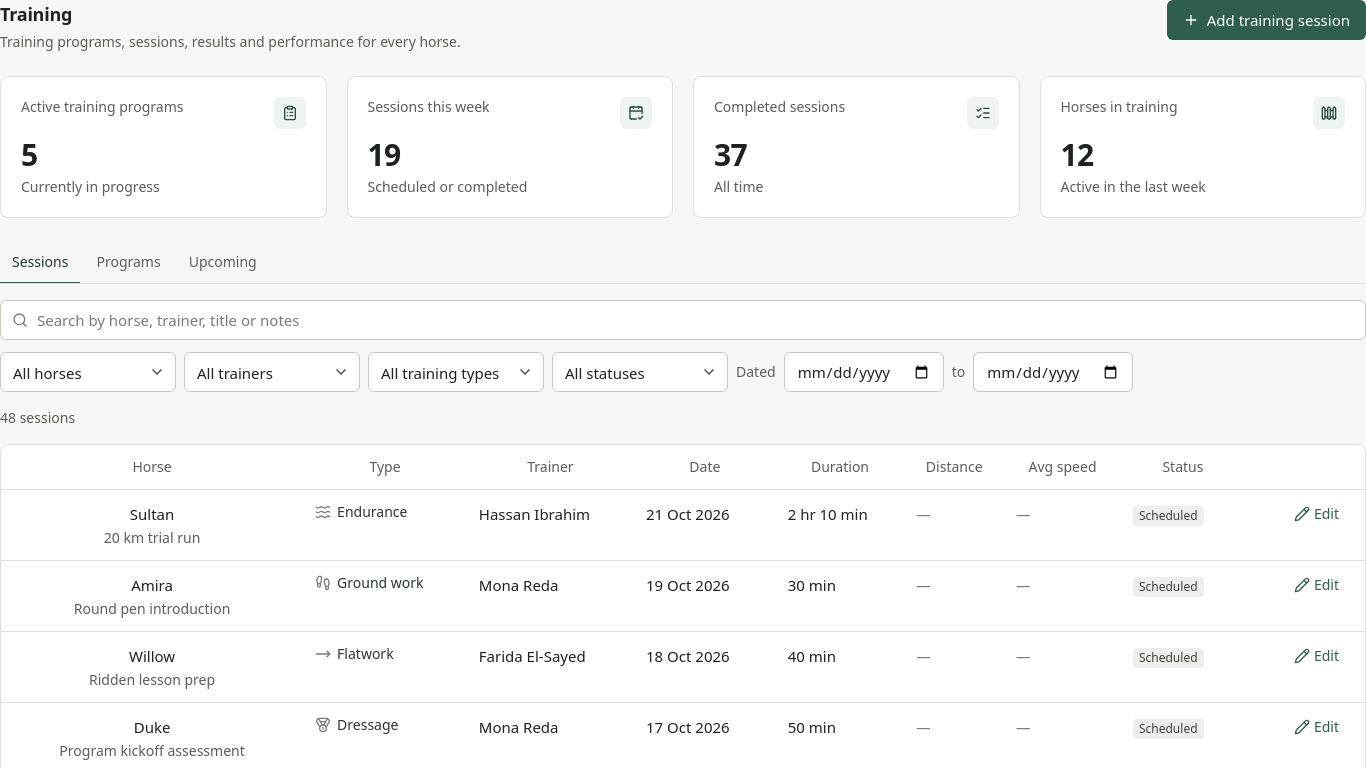
Test case: TrainingOverviewPage › combines filters, and clearing them restores the full list
Select "Luna" in the 1st dropdown named "filter by horse" at (88, 372), box [0,352,176,392]
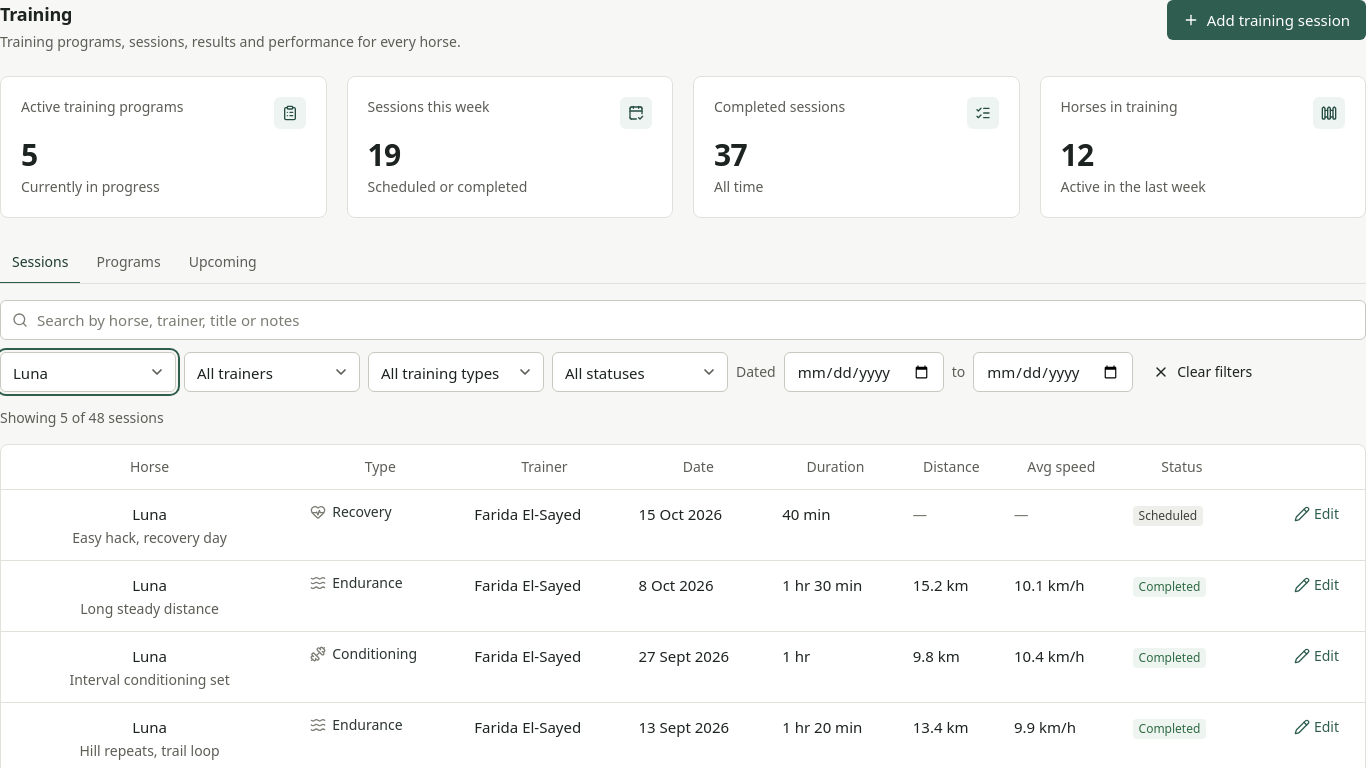
Select "Scheduled" in the 4th dropdown named "filter by status" at (640, 372), box [552,352,728,392]
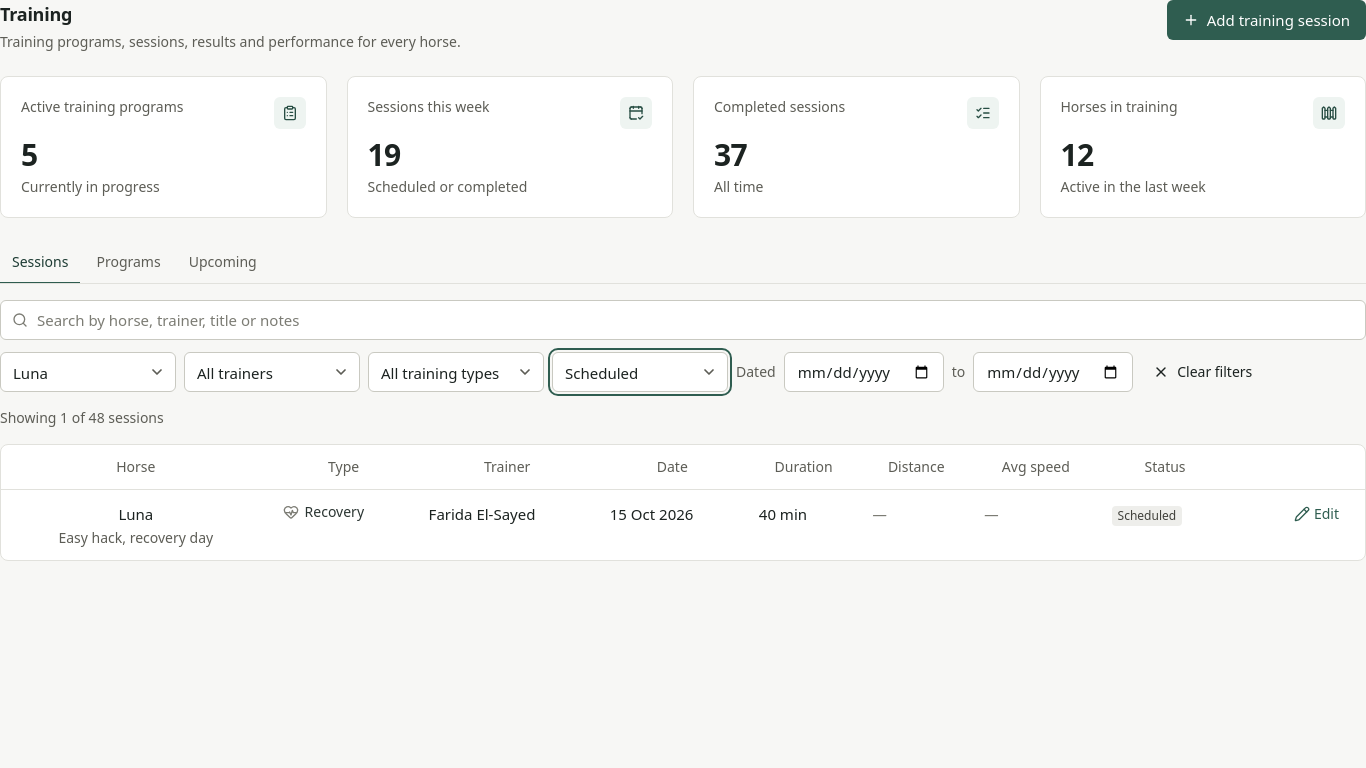
Click the button "Clear filters" at (1203, 372), box [1141,356,1264,388]
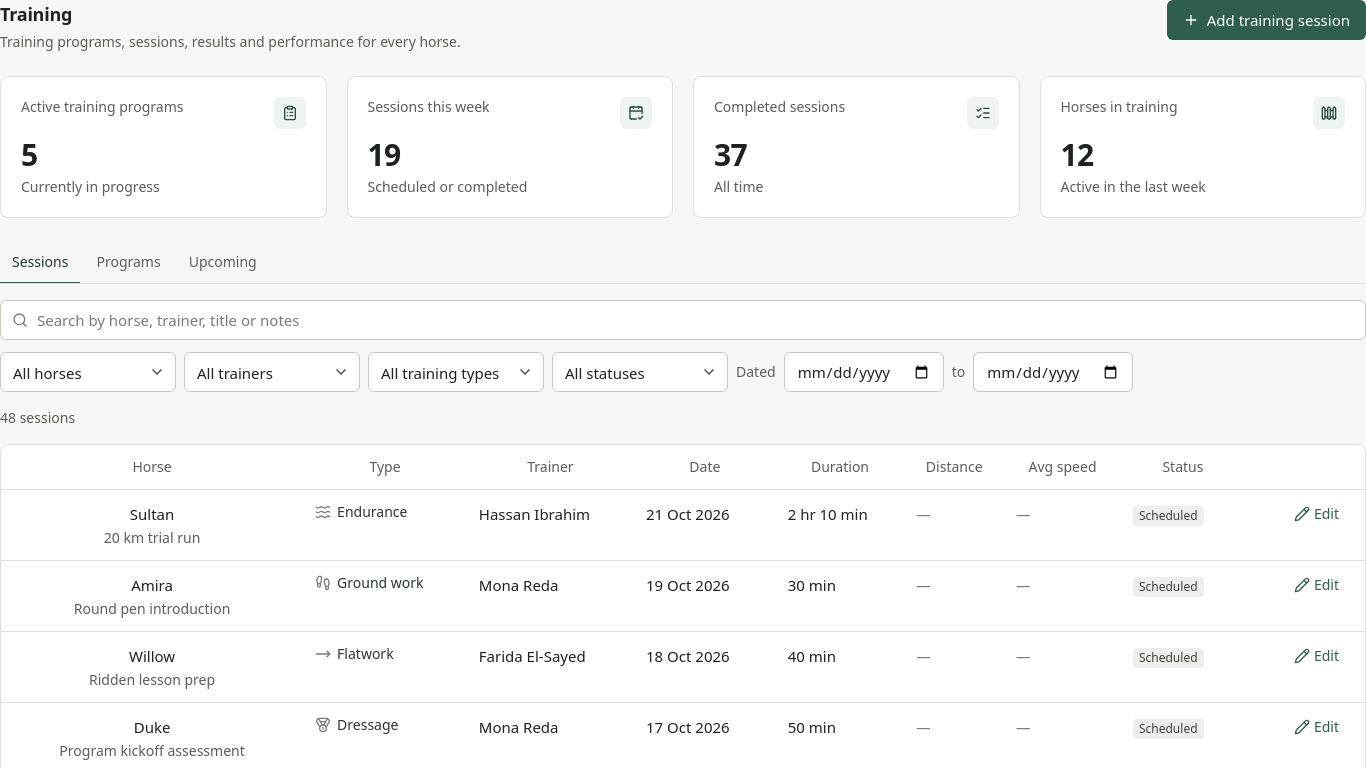
expect the message reads "48 sessions": met, box [0,408,75,427]
